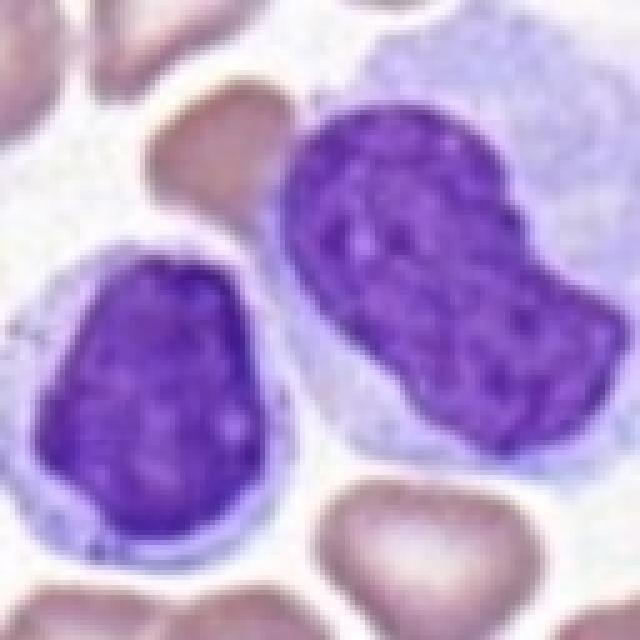lympho: (255, 0, 640, 493), (2, 239, 305, 573)
